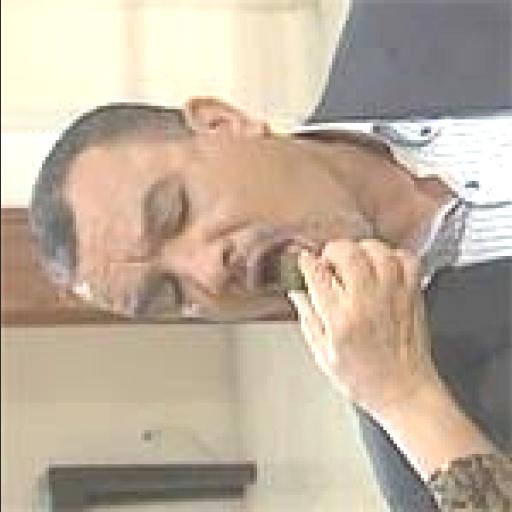slimane: (65, 126, 331, 317)
